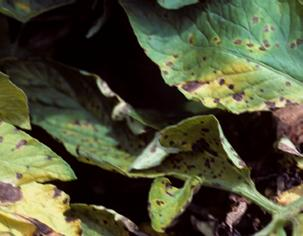Tomato Septoria leaf spot: (120, 0, 303, 120), (122, 110, 277, 218), (0, 90, 93, 236)
